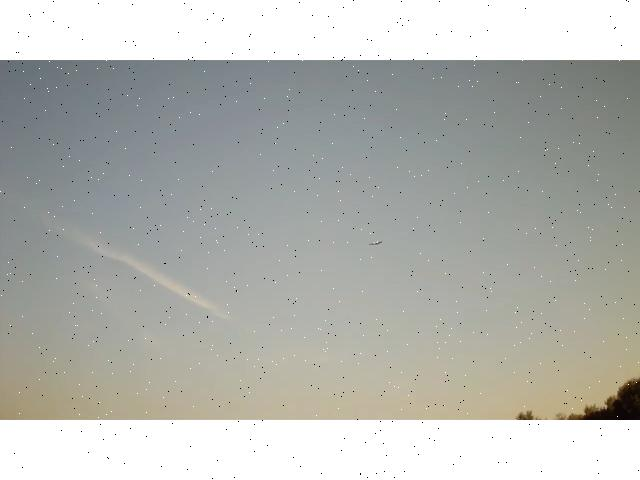Anti-Drone: (370, 242, 382, 244)
